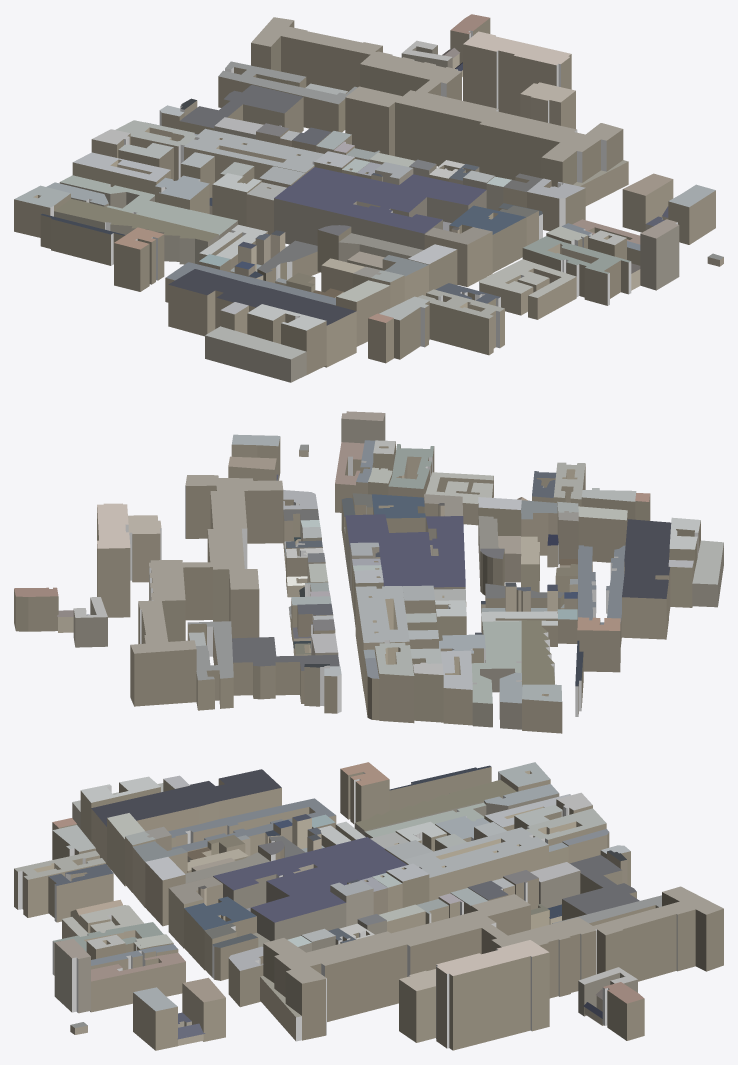
3 renders of one model, top to bottom at view 1: azimuth 30°, elevation 25°; view 2: azimuth 150°, elevation 25°; view 3: azimuth 270°, elevation 25°, orthographic. The views are drawn at different scales.
Parts seen in each view (by area): view 1: tuile; view 2: tuile; view 3: tuile.
Part boxes in pixels (bbox=[...]): tuile: bbox=[14, 14, 723, 382]; tuile: bbox=[14, 411, 723, 733]; tuile: bbox=[14, 762, 723, 1050].
Size of the model in its own units: 272 by 42.35 by 307.
